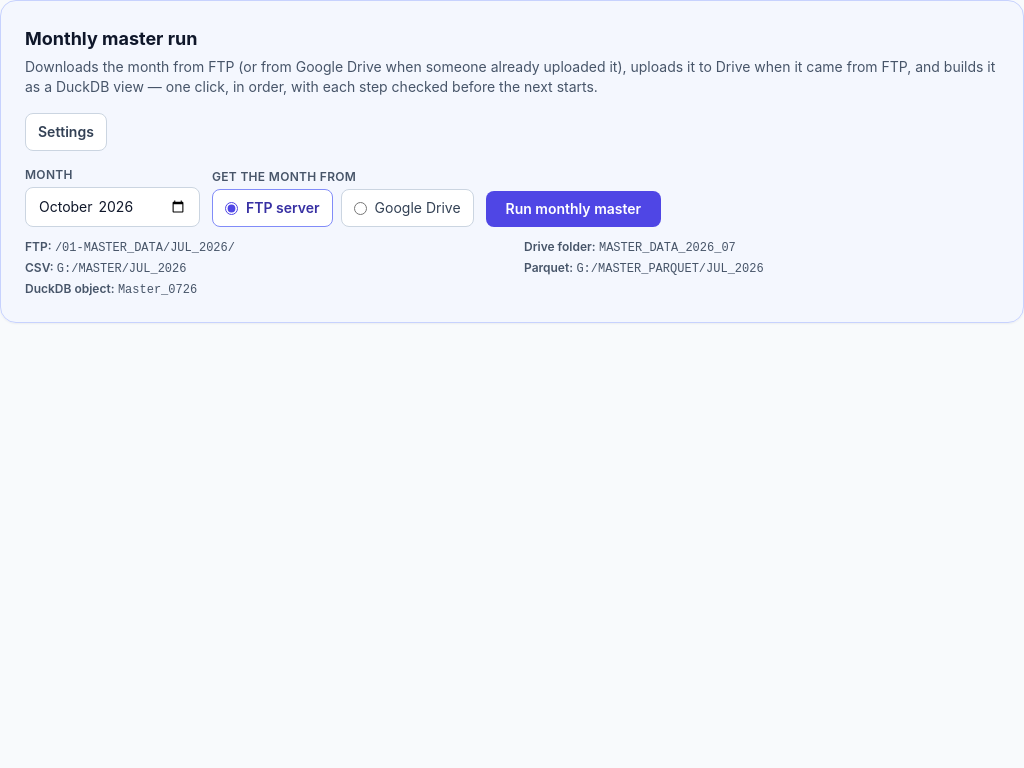
Test case: MonthlyRunCard › starts a run for the chosen month and shows each step finishing
Expected: the text "Master_0726" is shown, [118,283,197,297]
Click the button "Run monthly master" at (573, 209), box [486,191,661,227]
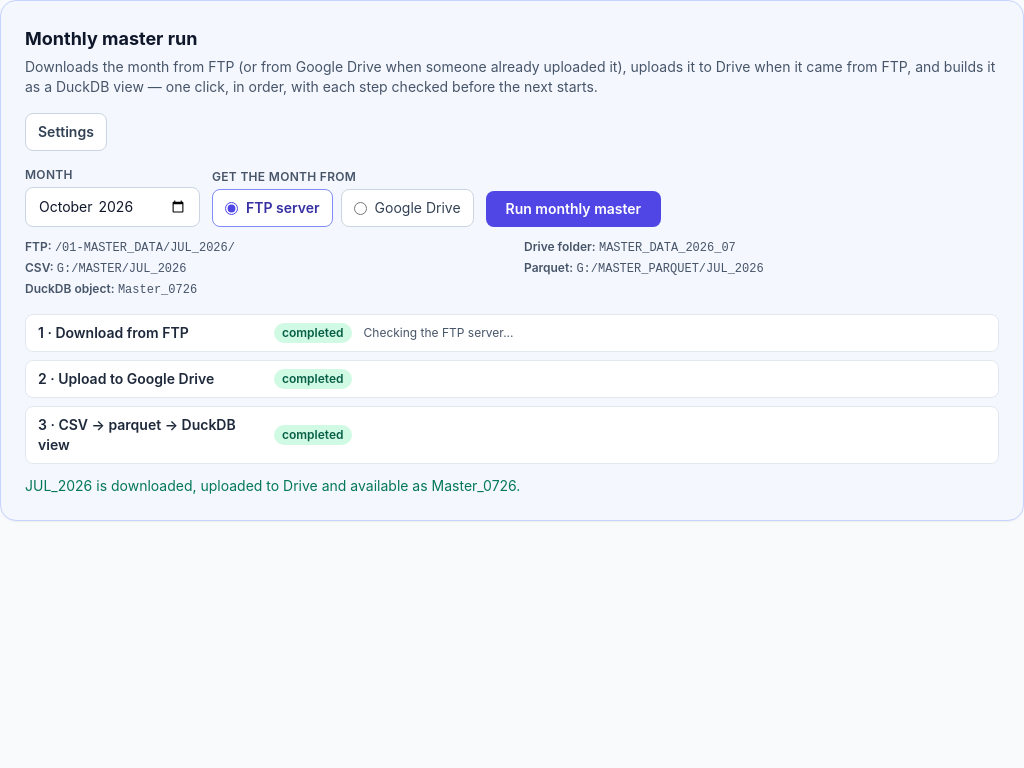
Expected: the text "available as Master_0726" is shown, [25,477,520,494]
Expected: the text "completed" is shown 3 times, [274,323,352,343]; [274,369,352,389]; [274,425,352,445]
